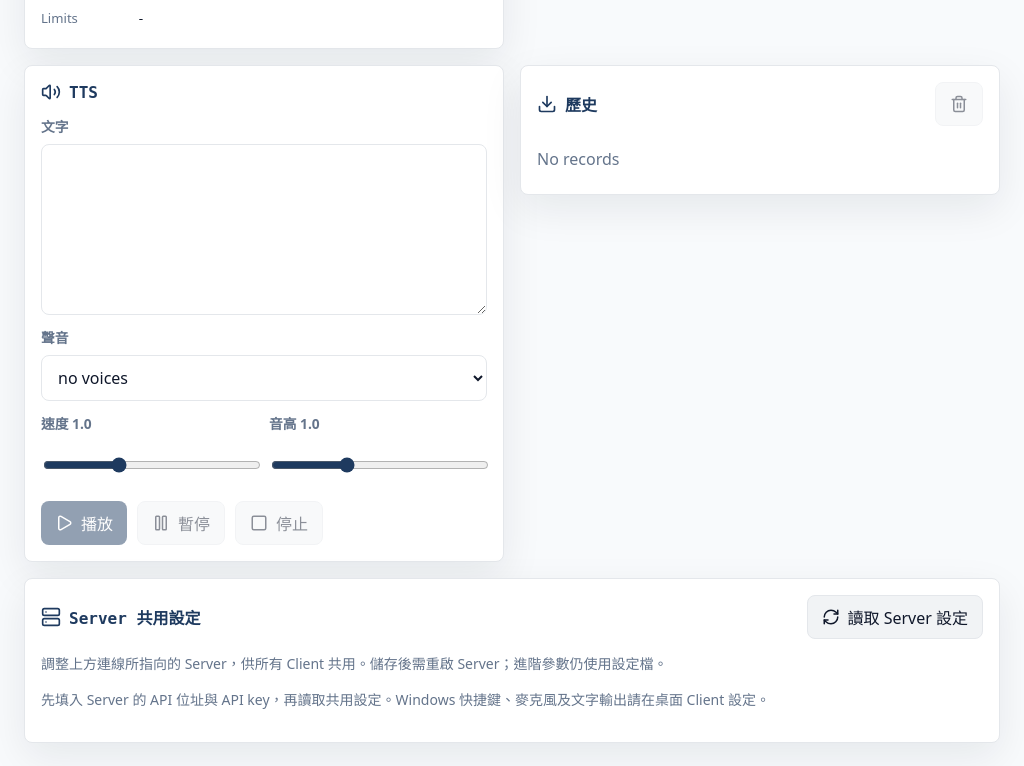
Scenario: App › resets a clean Server snapshot without confirmation when the endpoint changes
(page scrolled)
Click the button "讀取 Server 設定" at (895,617), box x1=806 y1=595 x2=983 y2=639
(page scrolled)
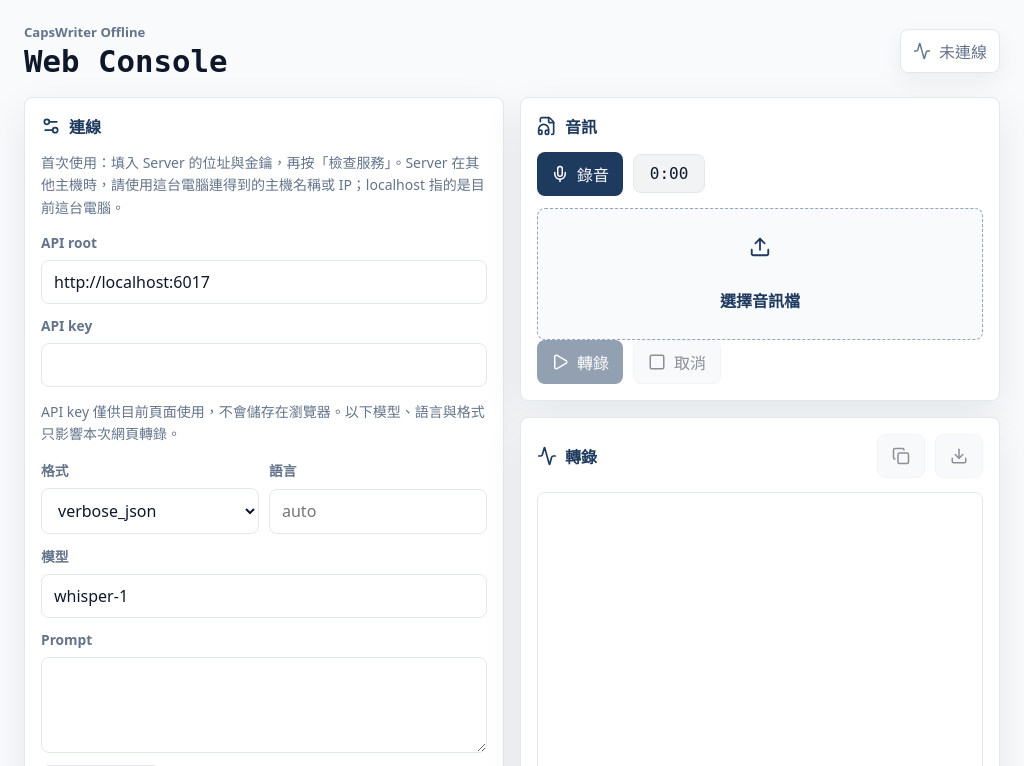
Replace the text in the field labelled "API root" with "http://other:6017" at (264,282), box x1=41 y1=260 x2=487 y2=304
(page scrolled)
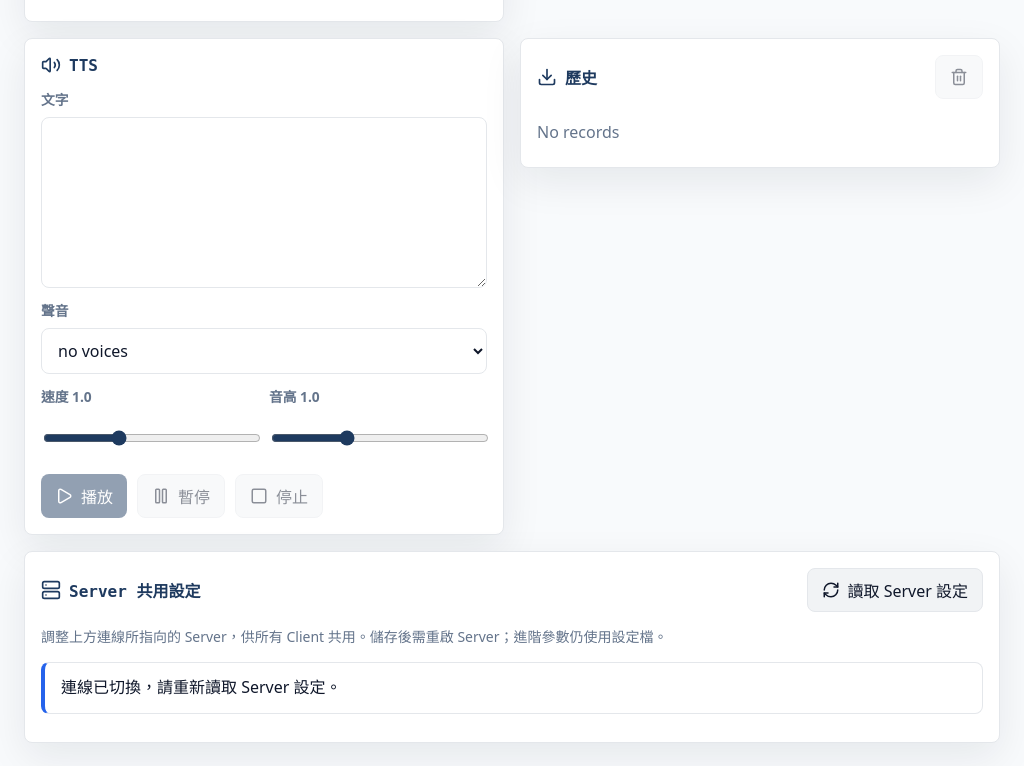
Expected: the text "連線已切換，請重新讀取 Server 設定。" is shown, x1=41 y1=662 x2=983 y2=714
